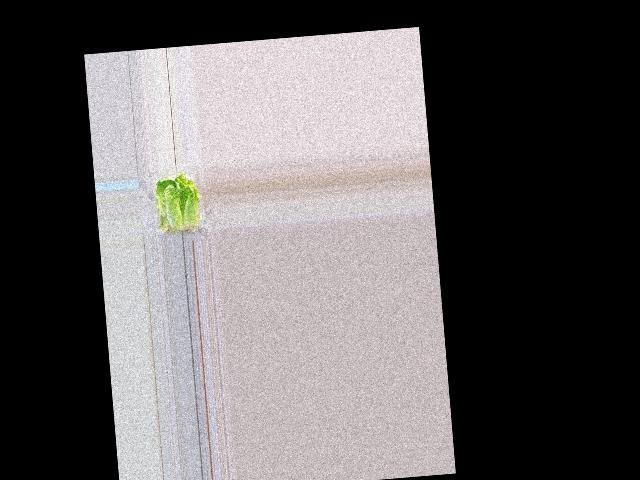lettuce: (154, 171, 201, 231)
